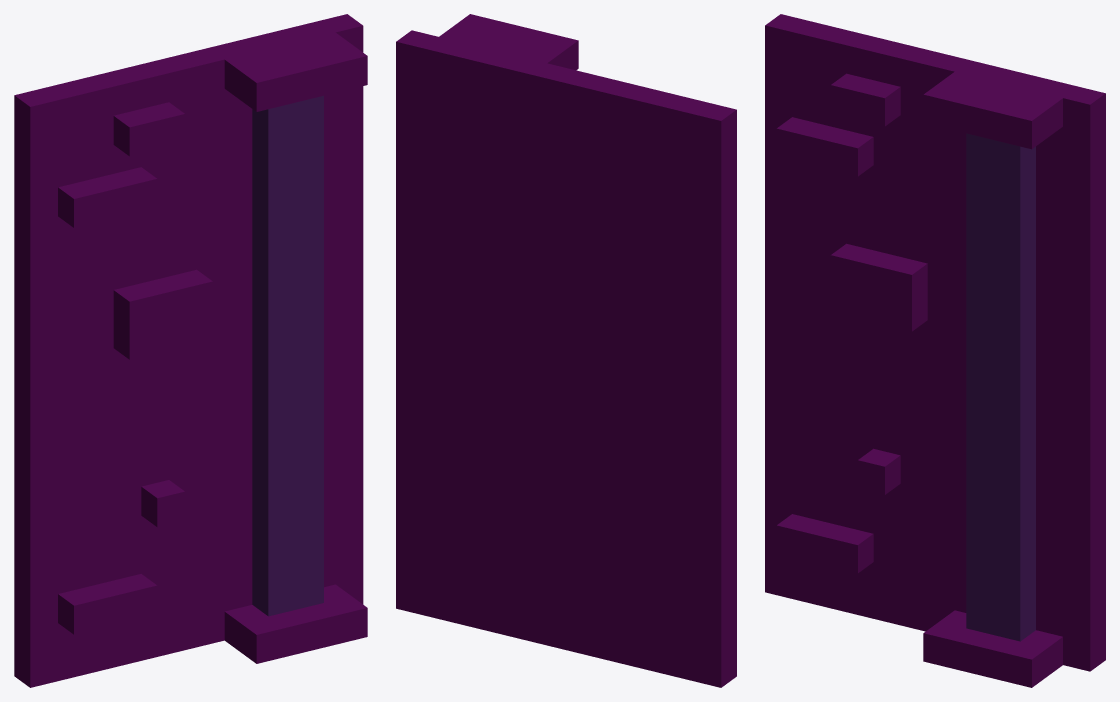
File: wall2.obj
3 views of the same model, side by side, from view 1: azimuth 30°, elevation 25°; view 2: azimuth 150°, elevation 25°; view 3: azimuth 330°, elevation 25° (orthographic). The views are drawn at different scales.
Bounding box in the file's own units: 1.2 × 2 × 0.3.
Materials: 1 (1 with a texture image).
